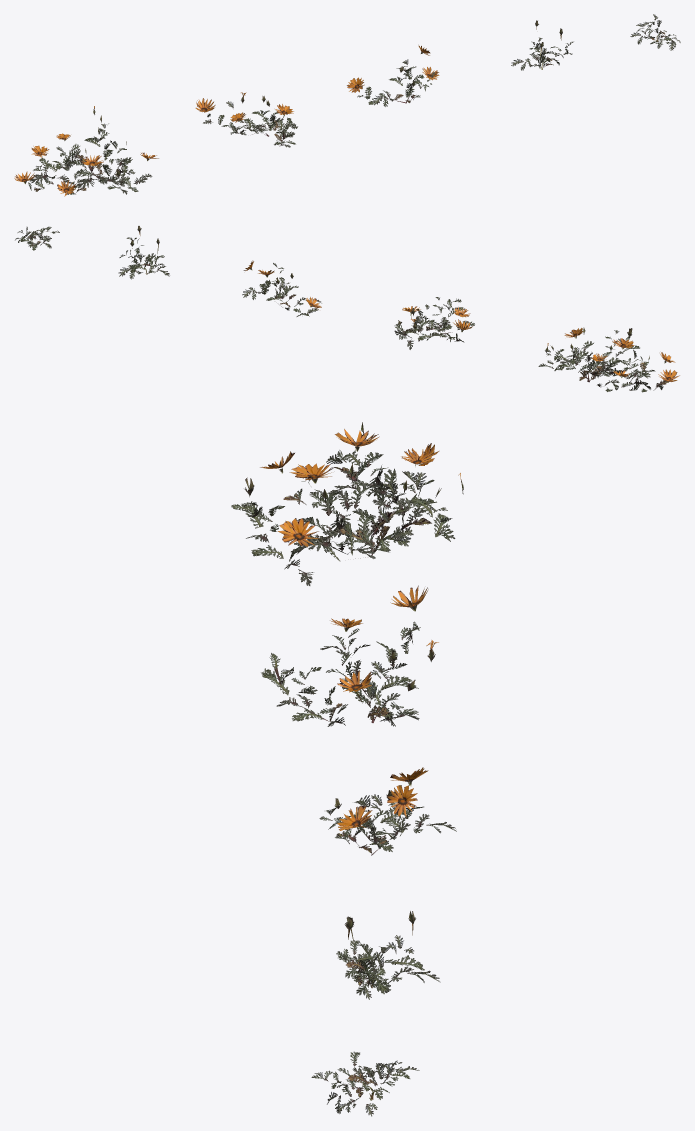
Rendered from flower_ursinia.glb.
The picture shows the model from 3 angles, top to bottom: view 1: azimuth 30°, elevation 25°; view 2: azimuth 150°, elevation 25°; view 3: azimuth 270°, elevation 25°; orthographic projection. The views are drawn at different scales.
Parts seen in each view (by area): view 1: flower_ursinia_a_LOD0; view 2: flower_ursinia_a_LOD0; view 3: flower_ursinia_a_LOD0.
Boxes of the visible parts, x1,y1,x2,y2 form: flower_ursinia_a_LOD0: (14,14,680,196); flower_ursinia_a_LOD0: (15,226,679,392); flower_ursinia_a_LOD0: (231,422,463,1116).
Bounding box in the file's own units: 2.19 × 0.1704 × 0.3342.
1 material, 1 textured.
